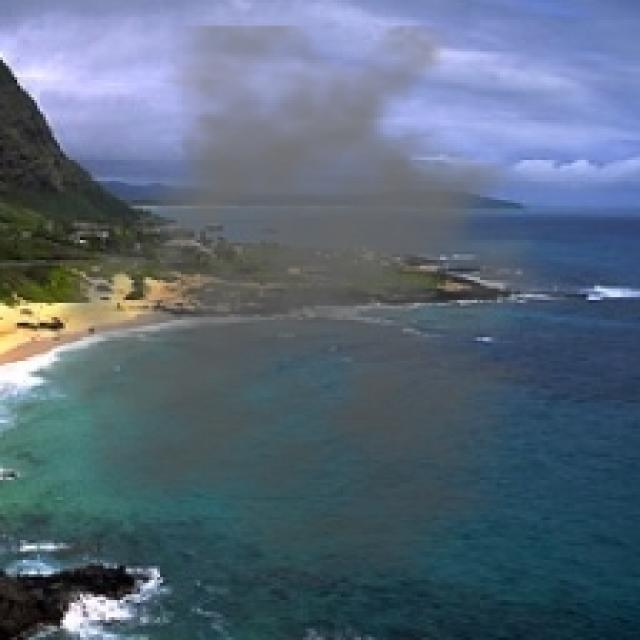smoke: (34, 26, 603, 588)
